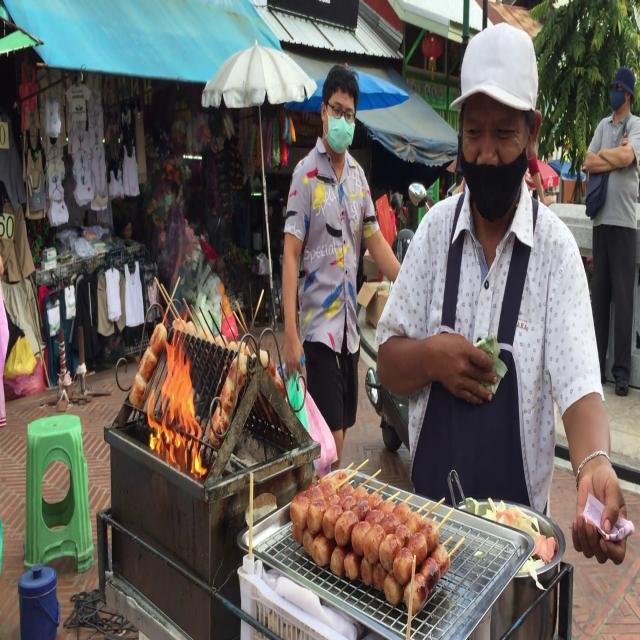Fire: (140, 323, 217, 486)
